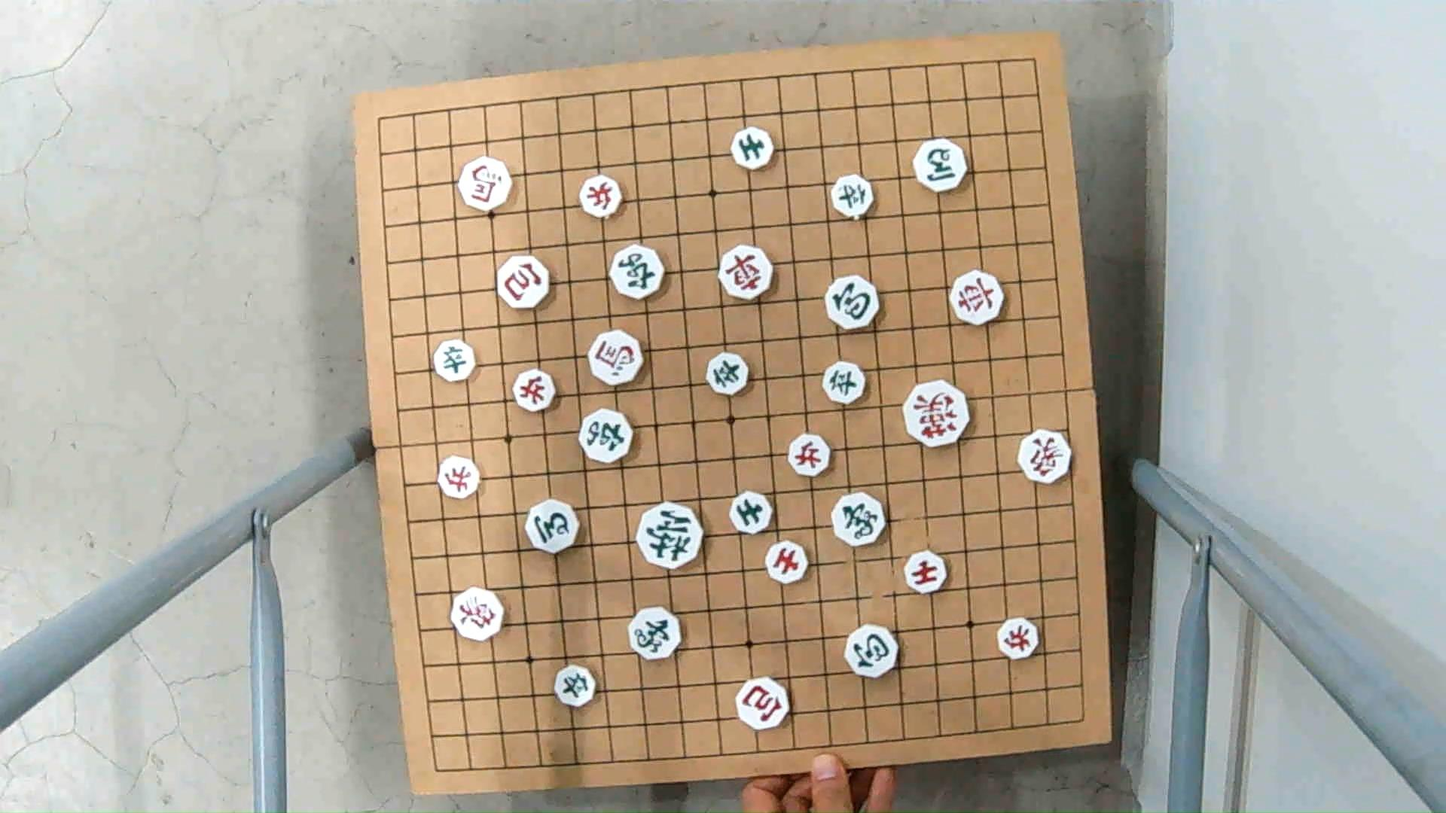cha_green: (611, 248, 667, 299), (579, 410, 633, 461)
cha_red: (947, 273, 1003, 325), (719, 245, 775, 297)
jol_green: (552, 664, 596, 708), (820, 363, 868, 403), (828, 176, 876, 216), (706, 353, 749, 397), (433, 343, 478, 382)
jol_red: (511, 371, 560, 410), (578, 177, 624, 217), (436, 460, 483, 498), (787, 436, 831, 476), (996, 619, 1039, 657)
ma_green: (523, 501, 584, 550), (914, 142, 970, 192)
ma_red: (587, 334, 645, 382), (459, 160, 514, 209)
po_green: (825, 279, 882, 329), (844, 628, 900, 677)
po_red: (499, 257, 555, 308), (737, 681, 795, 729)
sa_green: (728, 127, 776, 167), (729, 492, 776, 532)
sa_red: (764, 542, 810, 582), (903, 552, 947, 593)
sang_green: (628, 605, 683, 660), (831, 495, 888, 544)
sang_red: (1014, 431, 1074, 480), (451, 592, 506, 641)
wang_green: (634, 505, 704, 567)
wang_red: (905, 380, 969, 446)
